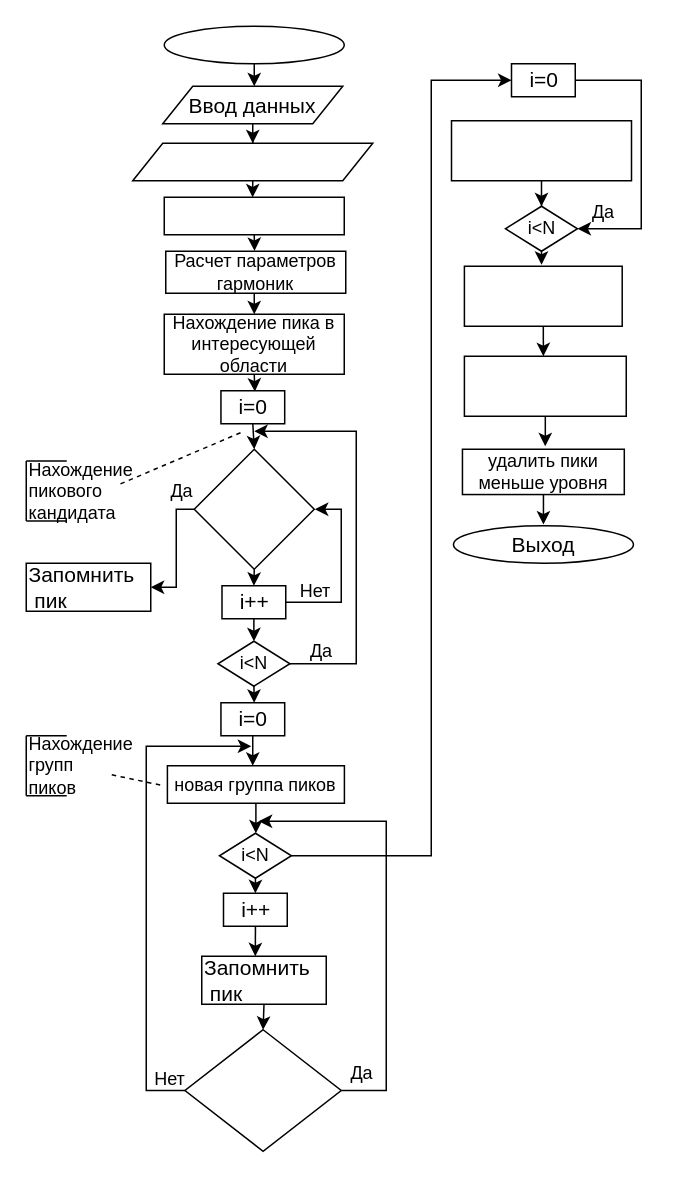
Some shapes in this 680 by 1178 pixel diagram are drawn without their labels. Here are the shapes that lost their labels. From the top down, the centre of each, then its label:
point 253,44: Начало
point 252,161: Ввод параметров окна
point 541,150: Запомнить максимальный пик группы
point 253,215: Расчет окна
point 542,295: threshold= максимальный пик
point 544,385: threshold = threshold * threshold_level
point 253,508: f 0 <f 1 <f 3 f 4 <f 3 <f 2
point 262,1089: пик[i] близкий к пику[i-1]
